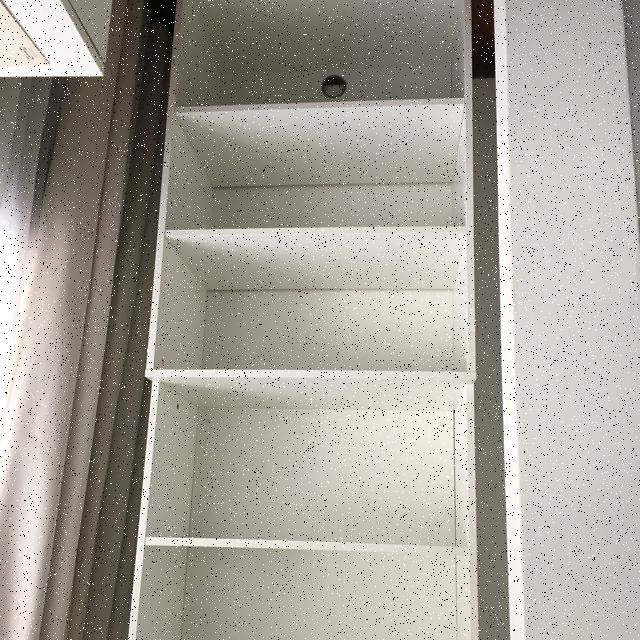Shelf: (123, 0, 487, 640)
